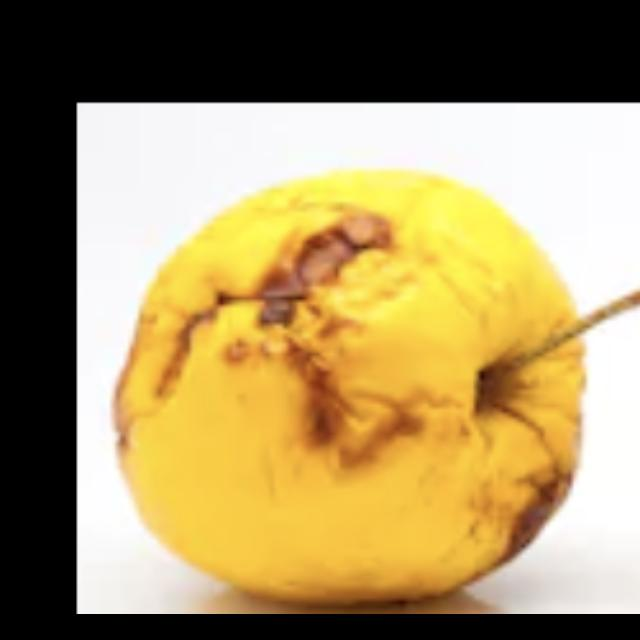Apel Tidak Segar: (106, 154, 604, 614)
